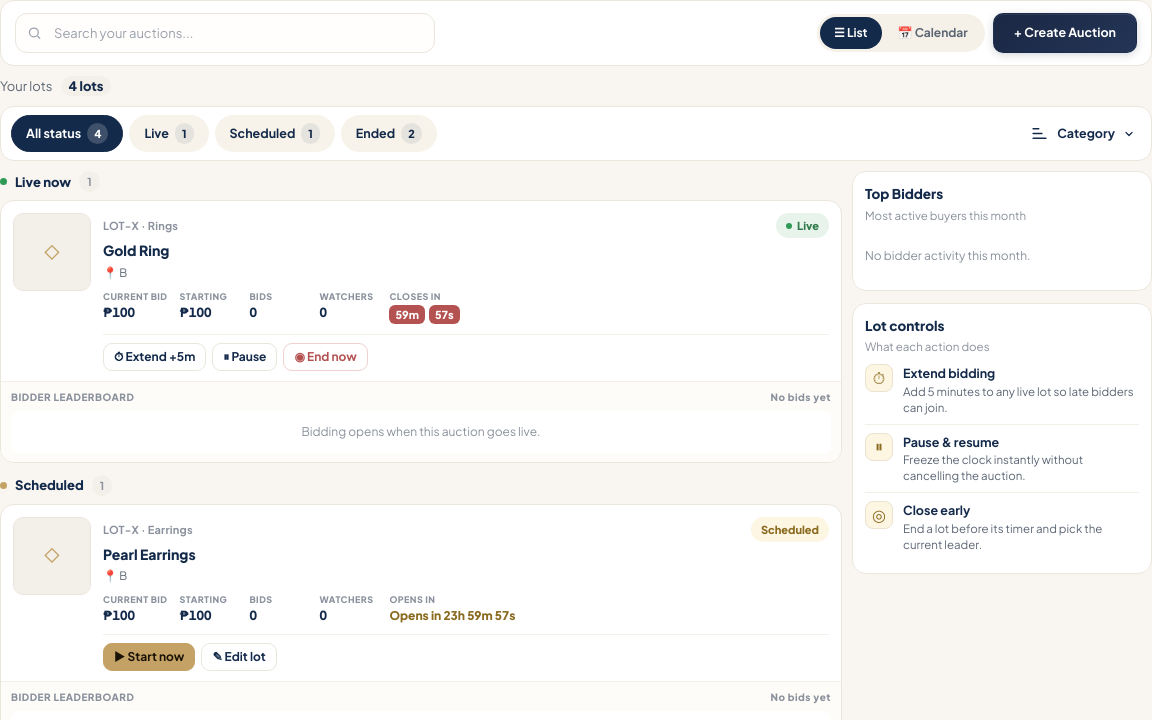
Test: status + category combine
Expected: the text "Gold Ring" is shown, [103,241,169,259]
Click the tab "Ended 2" at (389, 134), box [341,115,437,152]
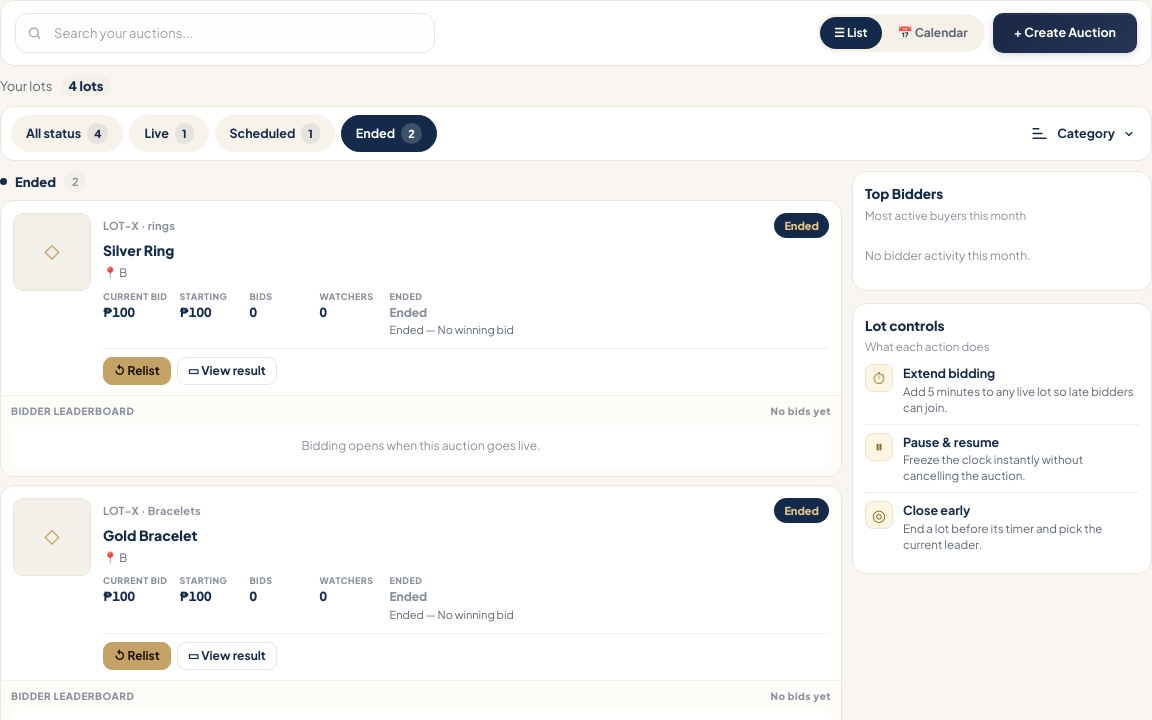
Click the button with class "mauc-cattrigger" at (1083, 134), box [1024,117,1141,150]
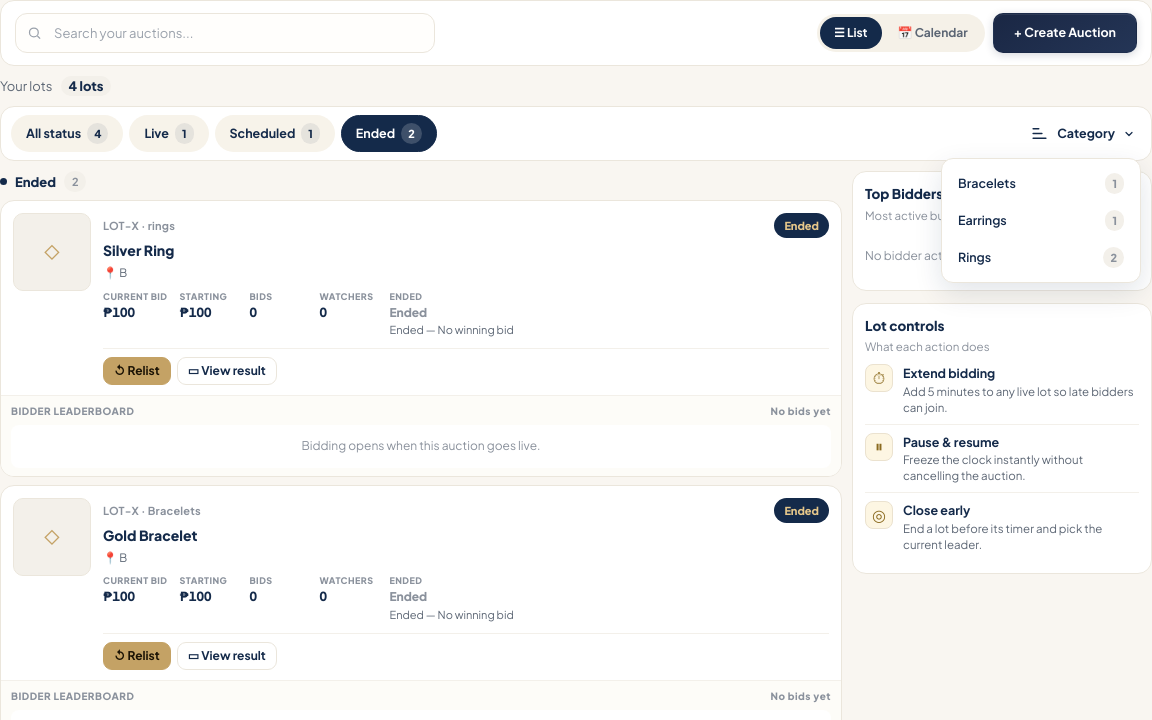
Click the button "Rings 2" at (1041, 258), box [948,239,1134,276]
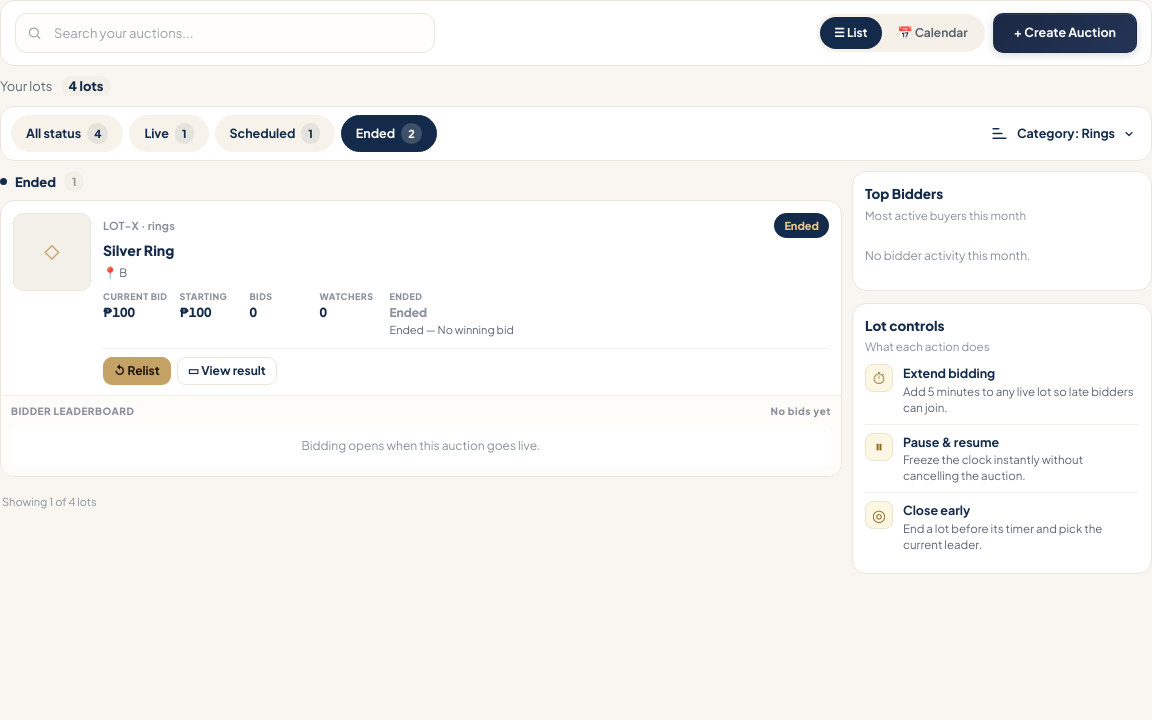
Expected: the text "Silver Ring" is shown, [103,241,174,259]
Expected: the text "Gold Bracelet" is gone
